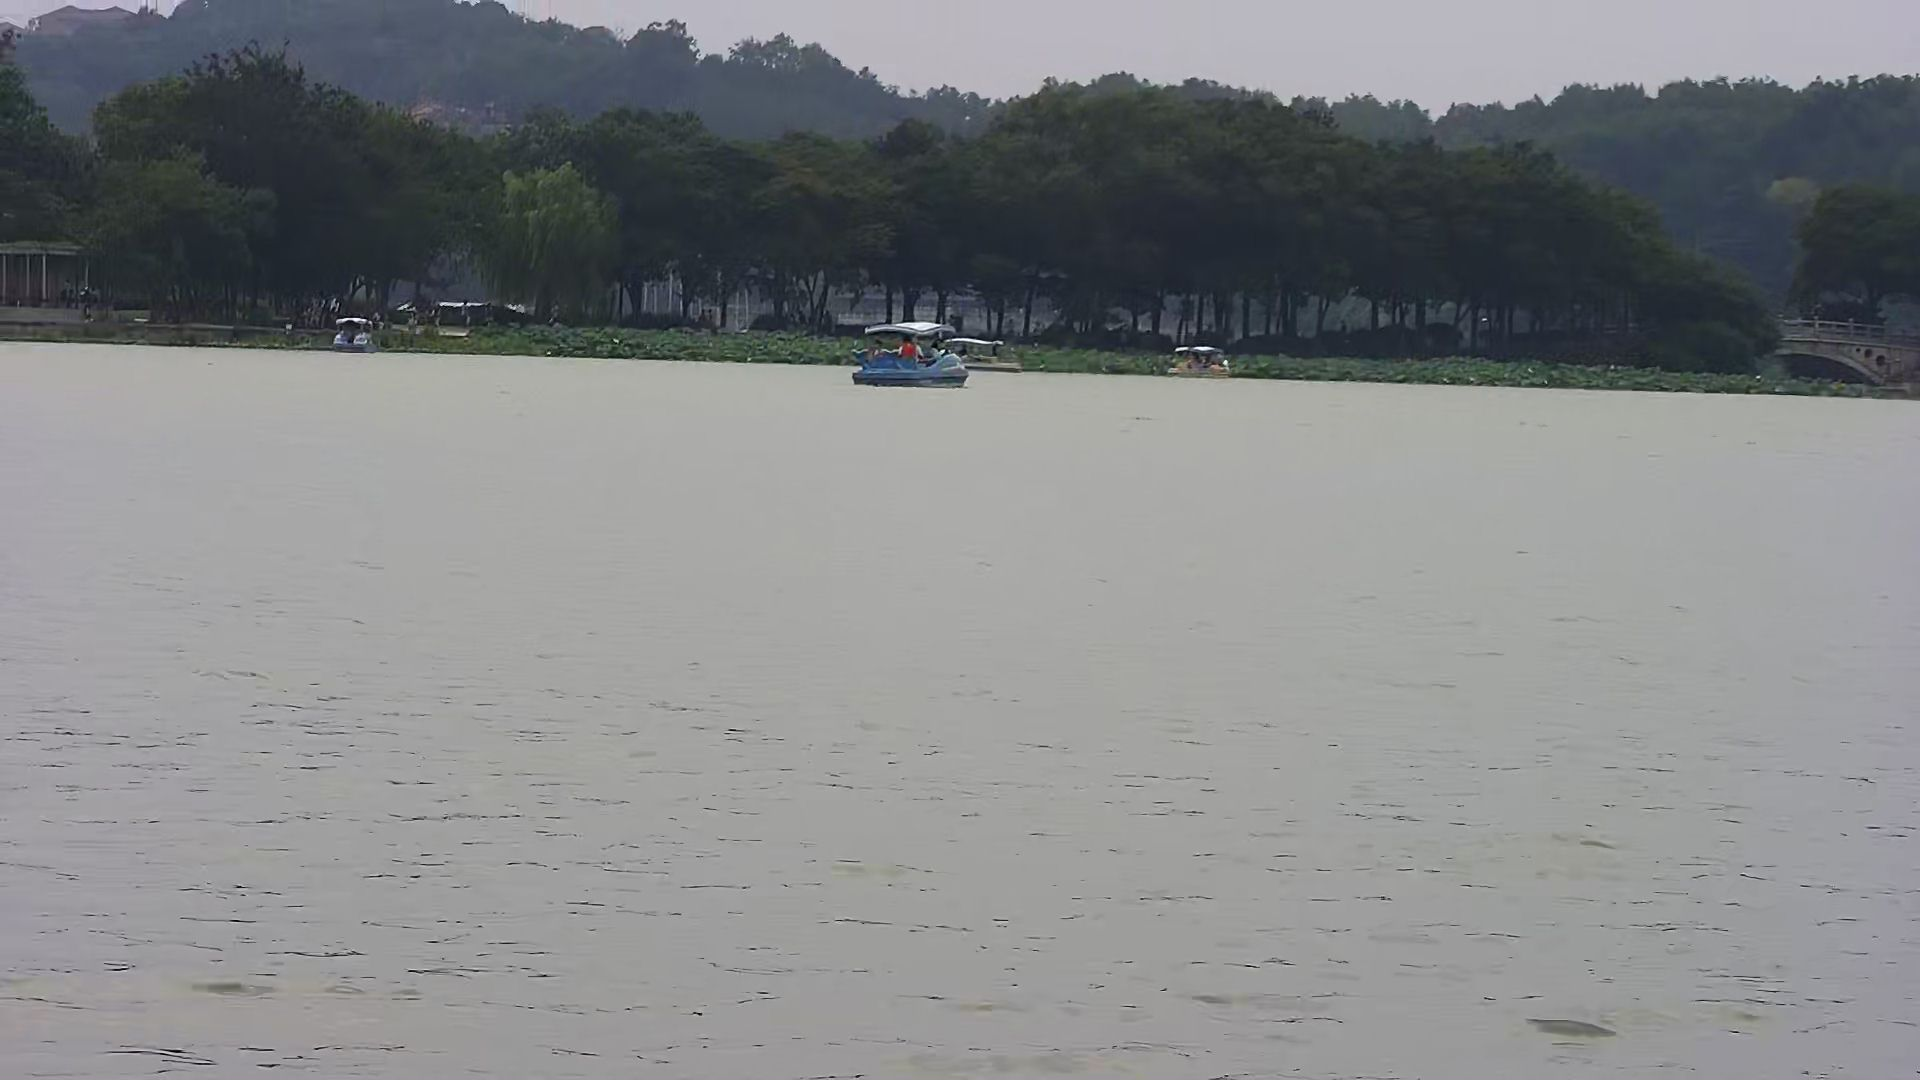boat: (847, 313, 968, 385), (944, 327, 1029, 373), (1166, 343, 1232, 380), (328, 315, 375, 351)
